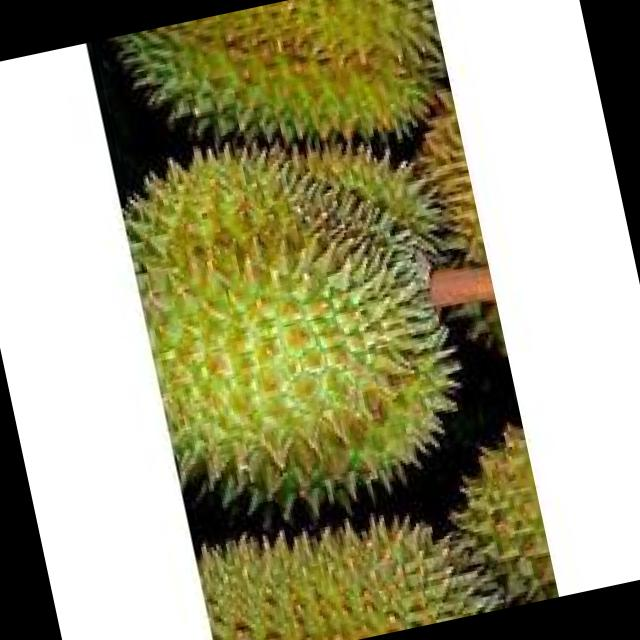fruit: (102, 80, 531, 568), (92, 0, 470, 219), (178, 446, 557, 640)
